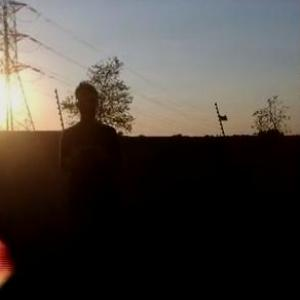follow: (58, 75, 124, 293)
